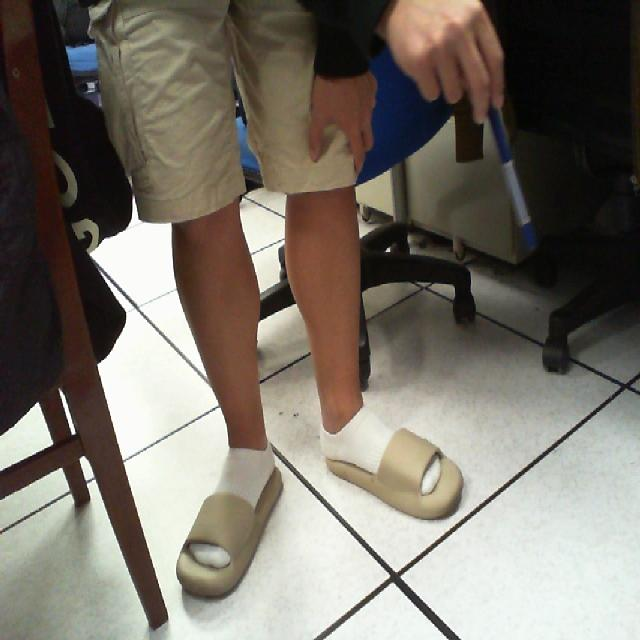Pen: (470, 69, 549, 268)
